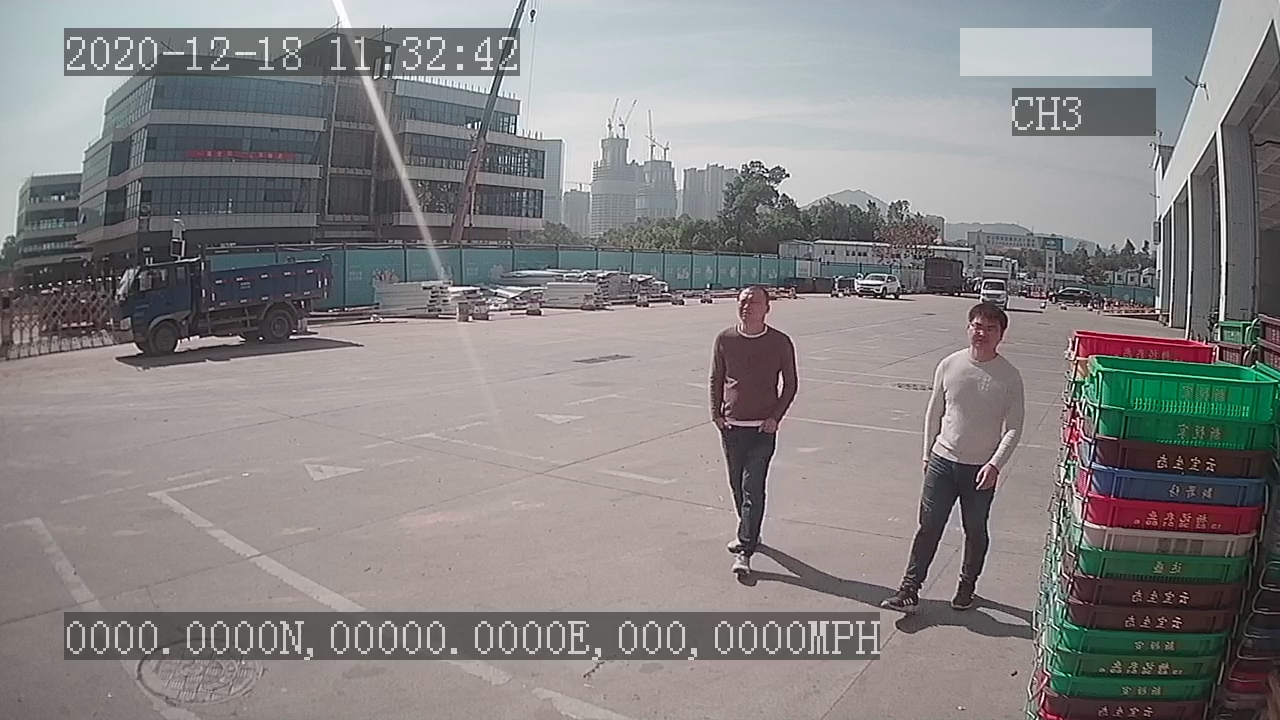person: (703, 283, 801, 578)
